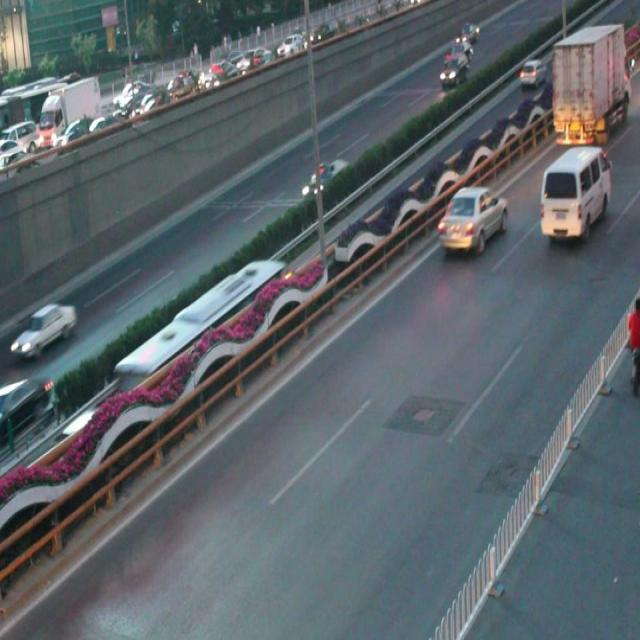car: (438, 186, 507, 253), (14, 303, 77, 357), (300, 157, 347, 201)
truck: (539, 144, 610, 240)
van: (111, 262, 288, 383)
